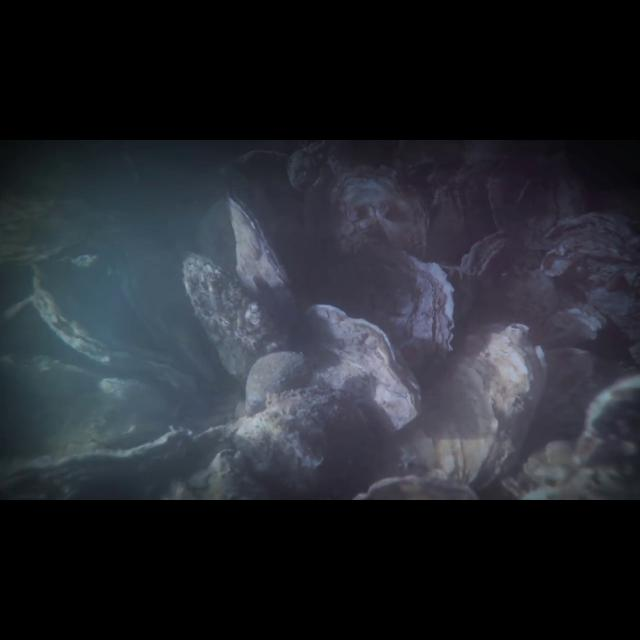Oyster-Closed: (386, 320, 547, 491), (24, 261, 210, 393), (338, 246, 459, 388), (299, 299, 425, 435), (179, 250, 292, 384), (323, 162, 434, 269), (461, 230, 520, 294)
Oyster-Open: (226, 188, 307, 331)
